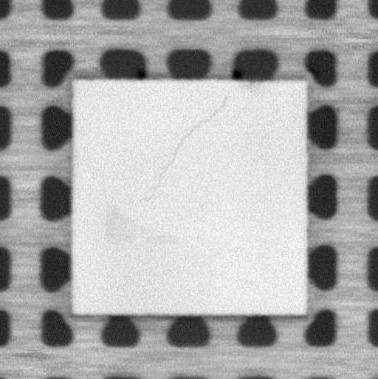DIE_CRACK: (151, 97, 228, 193)
